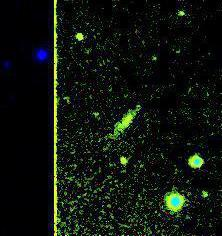star: (79, 105, 109, 135)
